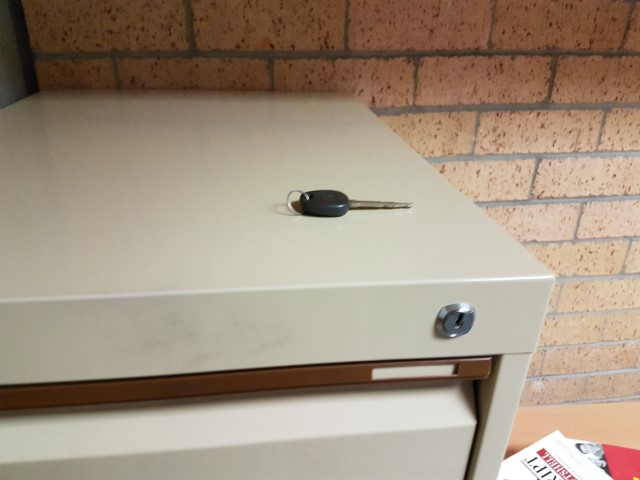key: (300, 189, 411, 216)
